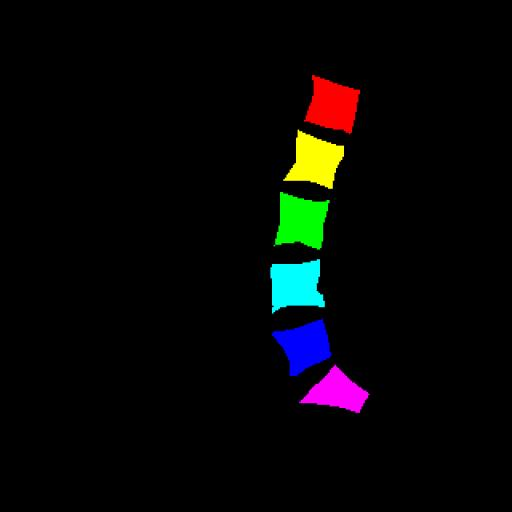L1: (305, 75, 360, 134)
L2: (284, 130, 344, 189)
L3: (275, 192, 329, 249)
L4: (270, 259, 325, 312)
L5: (272, 319, 331, 376)
S1: (300, 365, 369, 413)
